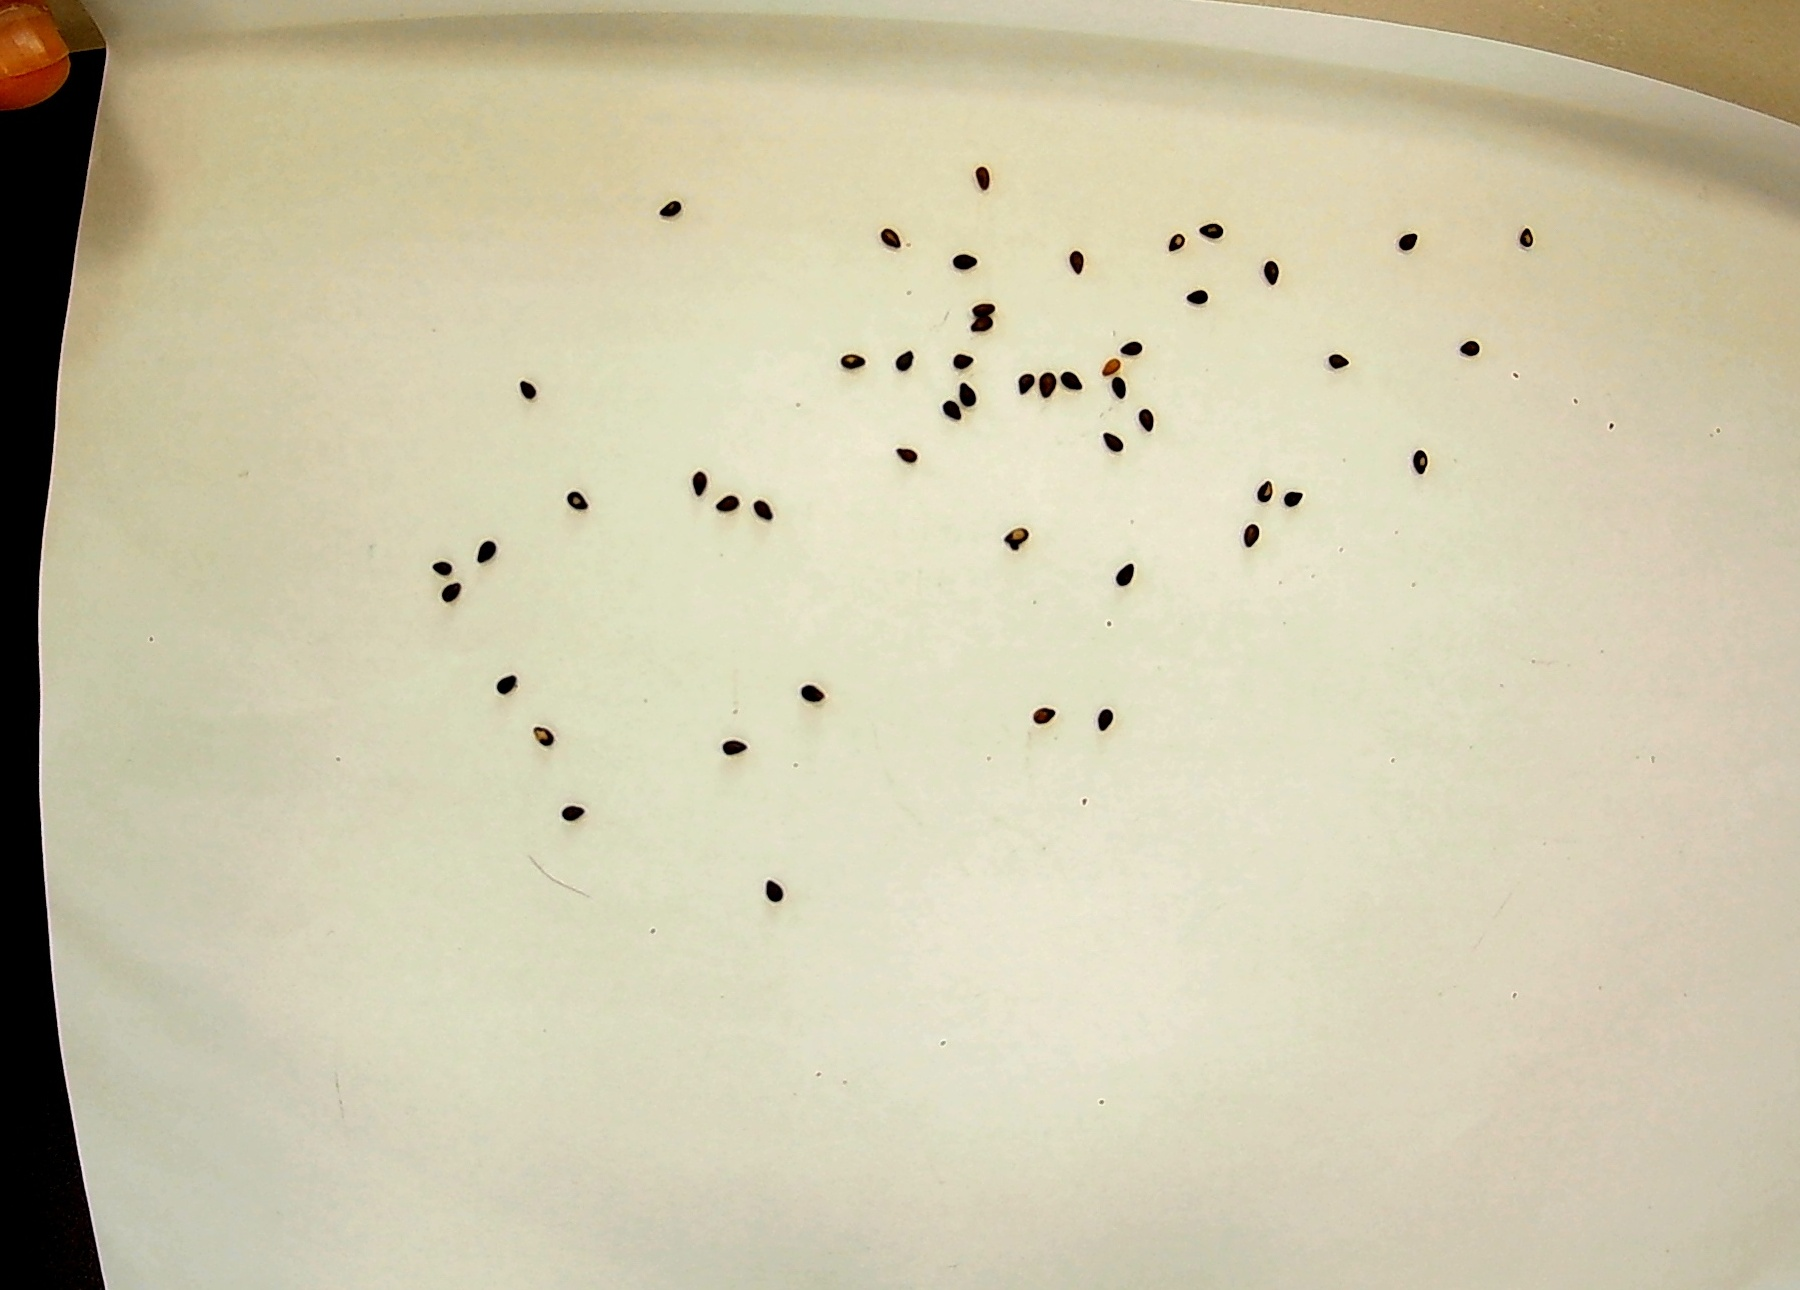sesami: (1020, 697, 1060, 740), (998, 514, 1037, 557), (1387, 222, 1423, 262), (654, 190, 691, 230), (791, 674, 832, 711), (939, 249, 987, 279), (548, 793, 597, 822), (518, 364, 546, 415), (1097, 422, 1129, 465), (1402, 440, 1437, 479), (1060, 243, 1100, 278), (525, 713, 560, 752), (473, 517, 500, 567), (491, 665, 527, 699), (763, 873, 795, 912), (414, 551, 463, 577), (875, 223, 913, 255), (830, 350, 880, 374), (1111, 557, 1141, 595), (713, 490, 740, 533), (562, 477, 592, 517), (1164, 223, 1192, 264), (1012, 362, 1038, 403), (752, 490, 779, 532), (1123, 324, 1153, 362), (1249, 475, 1281, 508), (437, 579, 472, 610), (1037, 355, 1056, 409), (721, 727, 751, 764), (885, 343, 922, 371), (1060, 362, 1091, 395), (936, 388, 961, 429), (1196, 219, 1235, 244), (954, 376, 980, 415), (1261, 255, 1288, 292), (947, 345, 980, 374), (968, 165, 998, 197), (688, 461, 712, 500), (1508, 221, 1540, 249), (1098, 350, 1130, 378), (1095, 704, 1120, 739), (1185, 282, 1214, 311), (1320, 352, 1352, 378), (964, 316, 1002, 338), (890, 443, 925, 466), (1455, 334, 1482, 364), (961, 297, 1005, 316), (1282, 487, 1312, 512), (1136, 408, 1160, 437), (1245, 517, 1266, 549), (1111, 371, 1129, 402)
